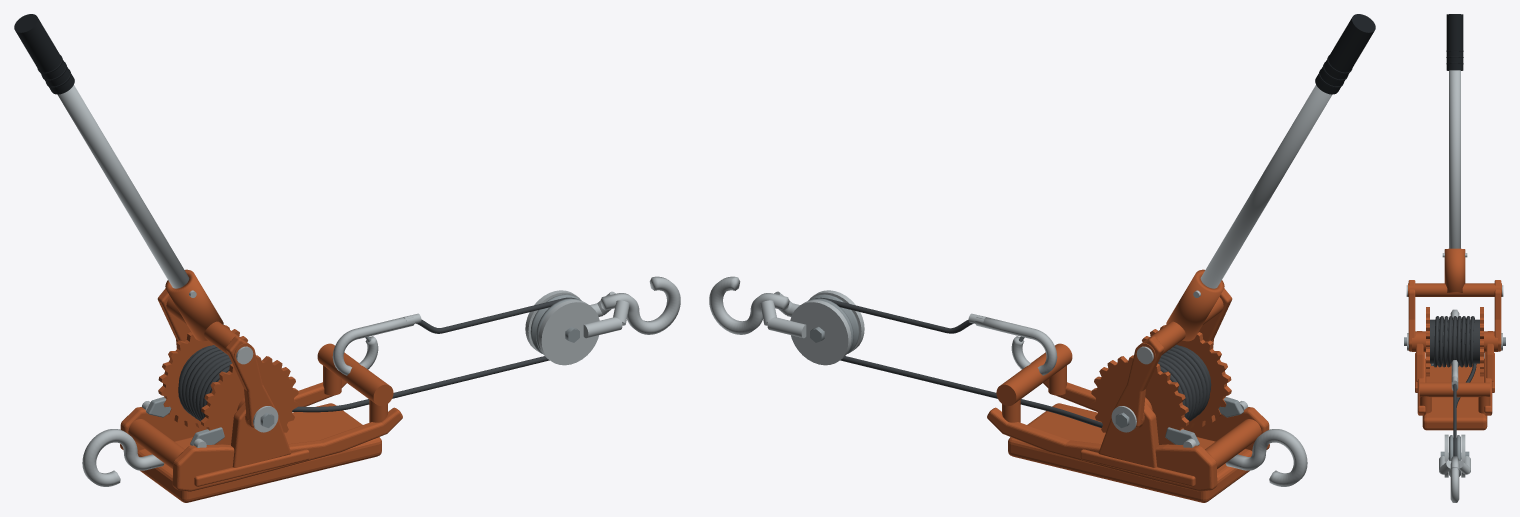
3 views of the same model, side by side, from view 1: azimuth 30°, elevation 25°; view 2: azimuth 150°, elevation 25°; view 3: azimuth 270°, elevation 25° (orthographic). The views are drawn at different scales.
Visible parts, largest first — view 1: Low tray bottom, Continuous wound cable and double line, Hollow inserted steel lever, Curved cast side rail -1, Toothed reel flange -1, Tackle block cheek -1, Rounded molded lever grip, Frame bearing support -1, Fixed rear frame hook, Toothed reel flange 1, Tackle block load hook, Angled hollow lever socket (+7 smaller); view 2: Low tray bottom, Continuous wound cable and double line, Hollow inserted steel lever, Curved cast side rail 1, Toothed reel flange 1, Tackle block cheek 1, Rounded molded lever grip, Frame bearing support 1, Fixed rear frame hook, Toothed reel flange -1, Tackle block load hook, Angled hollow lever socket (+7 smaller); view 3: Low tray bottom, Continuous wound cable and double line, Hollow inserted steel lever, Raised front hook anchor crossbar, Yoke upper crossbridge, Cable drum core, Rounded molded lever grip, Angled hollow lever socket, Raised lever fork -1, Raised lever fork 1, Tackle block load hook, Frame bearing support -1 (+13 smaller).
Part boxes in pixels (<box>): Low tray bottom: <box>137,403,381,502</box>; Continuous wound cable and double line: <box>178,297,576,421</box>; Hollow inserted steel lever: <box>58,85,189,288</box>; Curved cast side rail -1: <box>172,407,402,491</box>; Toothed reel flange -1: <box>200,355,298,444</box>; Tackle block cheek -1: <box>538,300,599,365</box>; Rounded molded lever grip: <box>14,14,74,94</box>; Frame bearing support -1: <box>231,402,291,467</box>; Fixed rear frame hook: <box>82,429,164,486</box>; Toothed reel flange 1: <box>158,325,247,428</box>; Tackle block load hook: <box>600,276,680,334</box>; Angled hollow lever socket: <box>165,269,223,341</box>; Low tray bottom: <box>1008,403,1252,502</box>; Continuous wound cable and double line: <box>815,297,1210,427</box>; Hollow inserted steel lever: <box>1200,85,1331,288</box>; Curved cast side rail 1: <box>987,407,1217,491</box>; Toothed reel flange 1: <box>1091,355,1189,444</box>; Tackle block cheek 1: <box>790,300,851,365</box>; Rounded molded lever grip: <box>1315,14,1375,94</box>; Frame bearing support 1: <box>1098,402,1158,467</box>; Fixed rear frame hook: <box>1225,429,1307,486</box>; Toothed reel flange -1: <box>1142,325,1231,428</box>; Tackle block load hook: <box>709,276,789,334</box>; Angled hollow lever socket: <box>1166,269,1224,341</box>; Low tray bottom: <box>1422,359,1487,430</box>; Continuous wound cable and double line: <box>1433,316,1476,456</box>; Hollow inserted steel lever: <box>1449,70,1460,248</box>; Raised front hook anchor crossbar: <box>1419,382,1490,397</box>; Yoke upper crossbridge: <box>1408,283,1501,296</box>; Cable drum core: <box>1430,319,1479,363</box>; Rounded molded lever grip: <box>1446,14,1463,70</box>; Angled hollow lever socket: <box>1444,248,1465,292</box>; Raised lever fork -1: <box>1408,280,1415,351</box>; Raised lever fork 1: <box>1494,280,1501,351</box>; Tackle block load hook: <box>1450,456,1459,502</box>; Frame bearing support -1: <box>1416,331,1423,381</box>.
Size of the model in its own units: 0.9912 by 0.7172 by 0.208.
